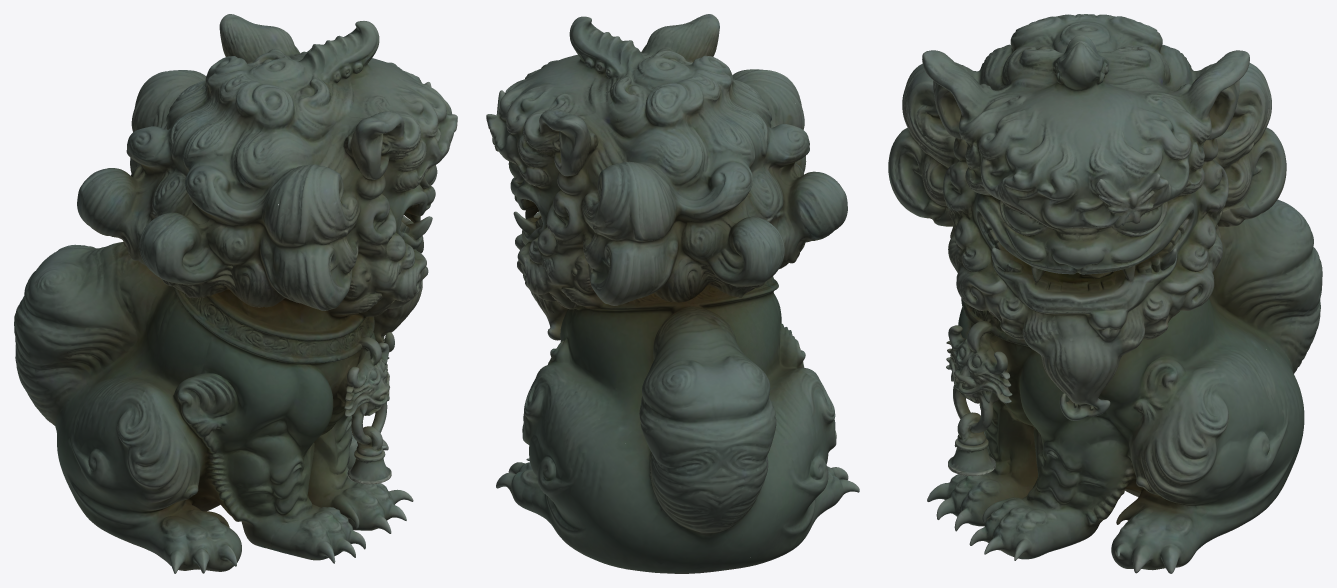
File: jade-guardian-lion.glb
3 renders of one model, left to right at view 1: azimuth 30°, elevation 25°; view 2: azimuth 150°, elevation 25°; view 3: azimuth 270°, elevation 25°, orthographic. The views are drawn at different scales.
Visible parts, largest first — view 1: tripo_node_e2991761-ccf4-4d10-850e-56e3f3fa020f; view 2: tripo_node_e2991761-ccf4-4d10-850e-56e3f3fa020f; view 3: tripo_node_e2991761-ccf4-4d10-850e-56e3f3fa020f.
Boxes of the visible parts, bbox=[...] form: tripo_node_e2991761-ccf4-4d10-850e-56e3f3fa020f: bbox=[14, 14, 457, 573]; tripo_node_e2991761-ccf4-4d10-850e-56e3f3fa020f: bbox=[486, 14, 859, 573]; tripo_node_e2991761-ccf4-4d10-850e-56e3f3fa020f: bbox=[888, 14, 1322, 573].
Size of the model in its own units: 0.7499 by 0.9999 by 0.7615.
Materials: 1 (1 with a texture image).
